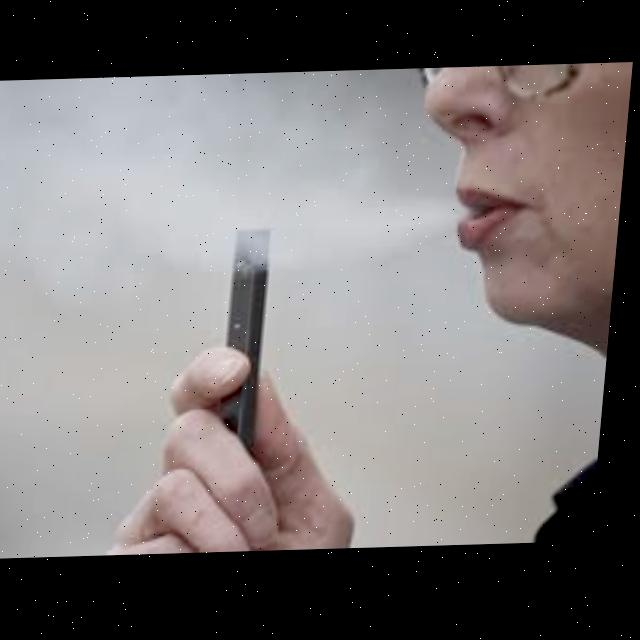vape: (224, 227, 280, 455)
